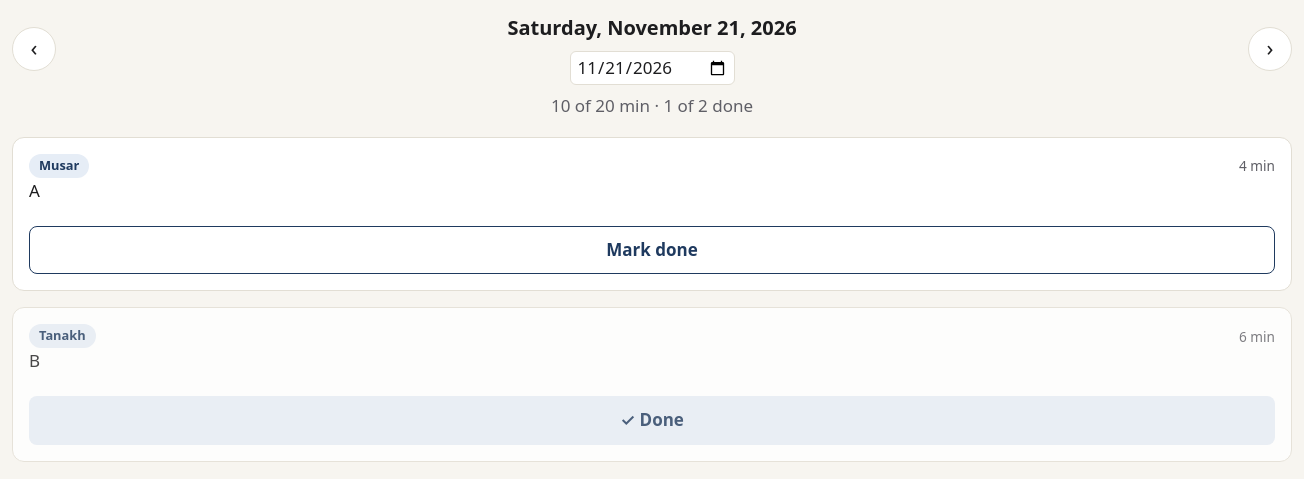
Scenario: TodayScreen done toggles › shows saved completions and records a new one by content id
The image size is (1304, 479).
Expected: the text "1 of 2 done" is shown, top-left (663, 94), bottom-right (753, 117)
Click the button "Mark done".
click(652, 250)  # box top-left (29, 226), bottom-right (1275, 274)
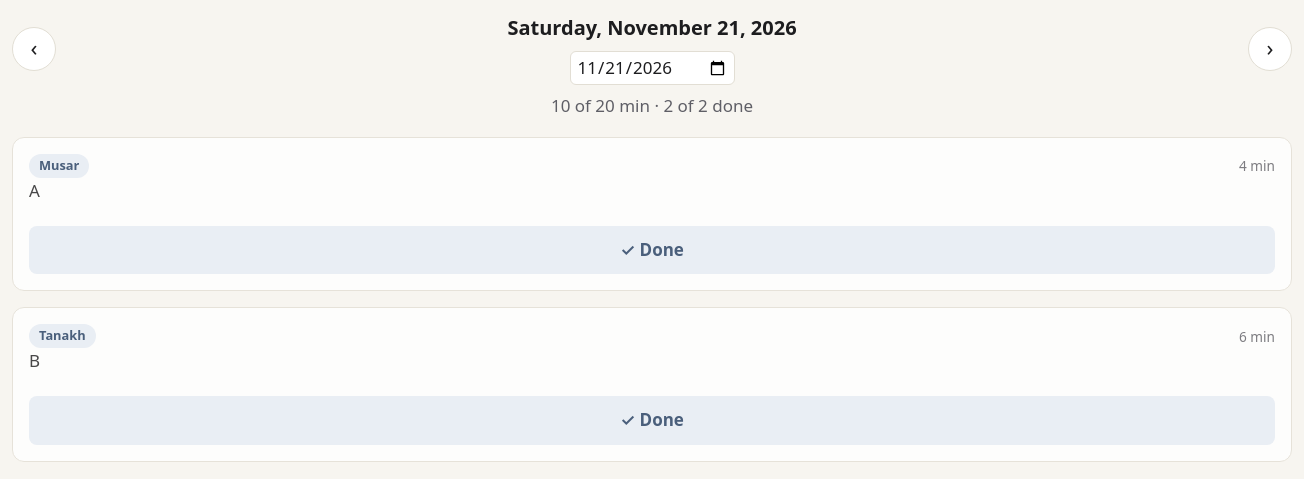
Expected: the text "2 of 2 done" is shown, top-left (663, 94), bottom-right (753, 117)
